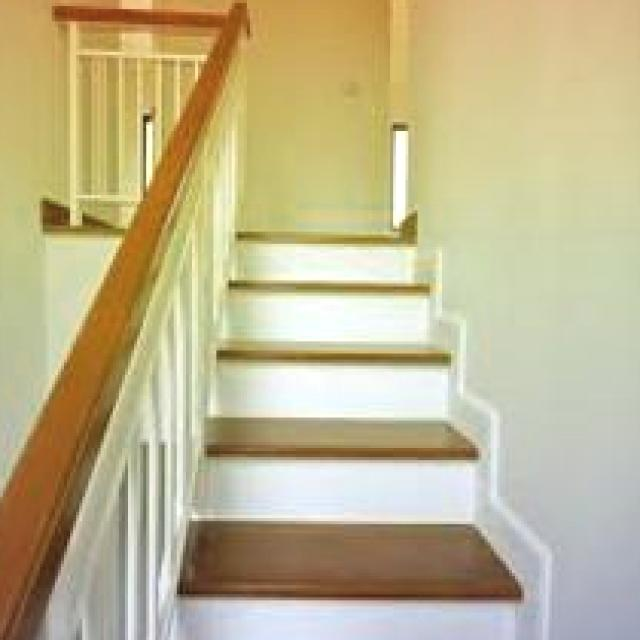upstair: (181, 348, 531, 626)
